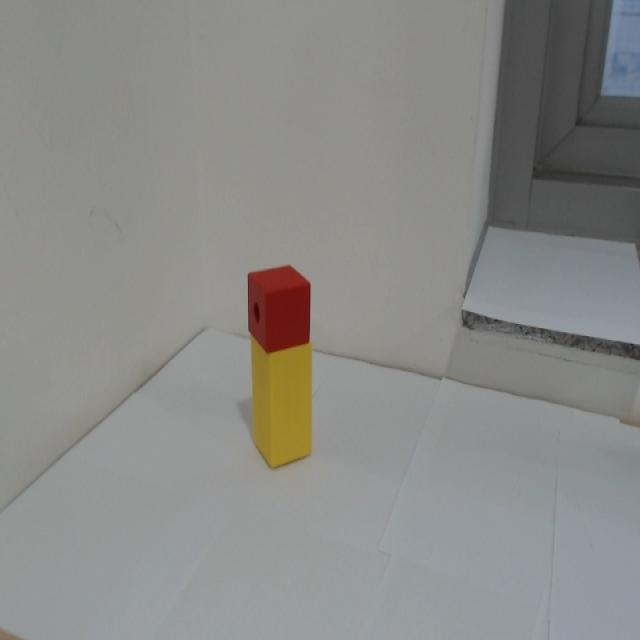cube: (237, 257, 318, 353)
